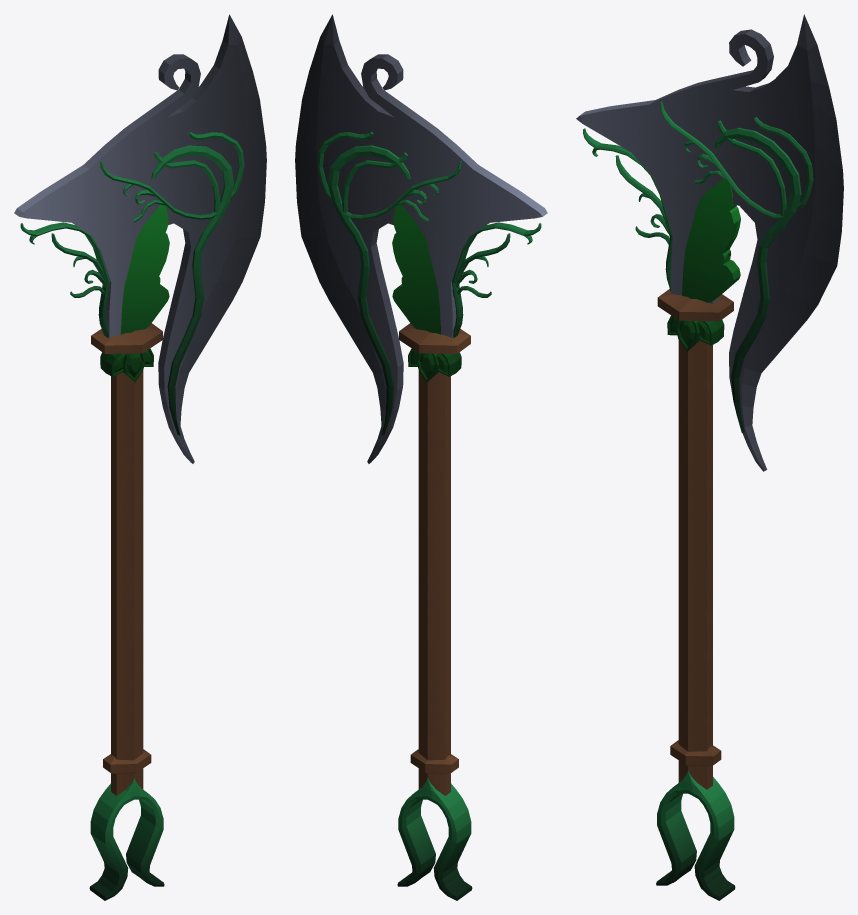
Rendered from Axe_2.fbx.
3 renders of one model, left to right at view 1: azimuth 30°, elevation 25°; view 2: azimuth 150°, elevation 25°; view 3: azimuth 330°, elevation 25°, orthographic. The views are drawn at different scales.
Parts seen in each view (by area): view 1: Axe_2; view 2: Axe_2; view 3: Axe_2.
Boxes of the visible parts, left/top/right/bottom form: Axe_2: left=14, top=14, right=266, bottom=900; Axe_2: left=295, top=14, right=547, bottom=900; Axe_2: left=576, top=14, right=843, bottom=900.
Size of the model in its own units: 48.1 by 156 by 10.4.
1 material, 1 textured.
